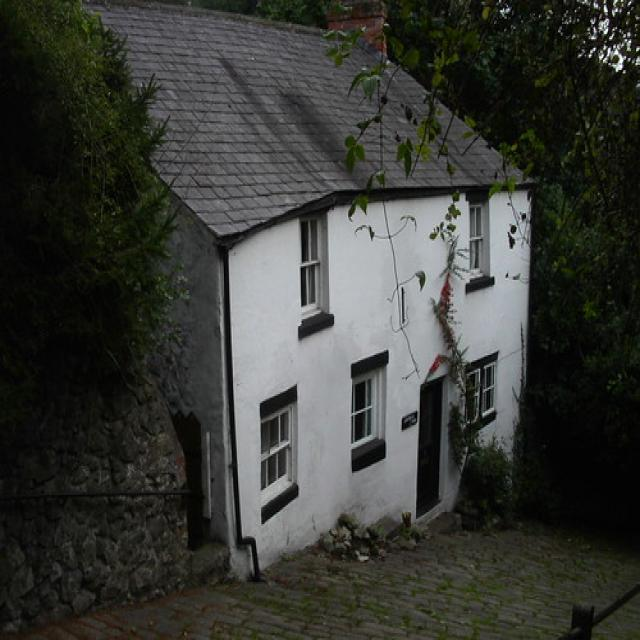Normal_building: (15, 1, 544, 576)
